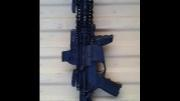gun: (61, 0, 121, 101)
